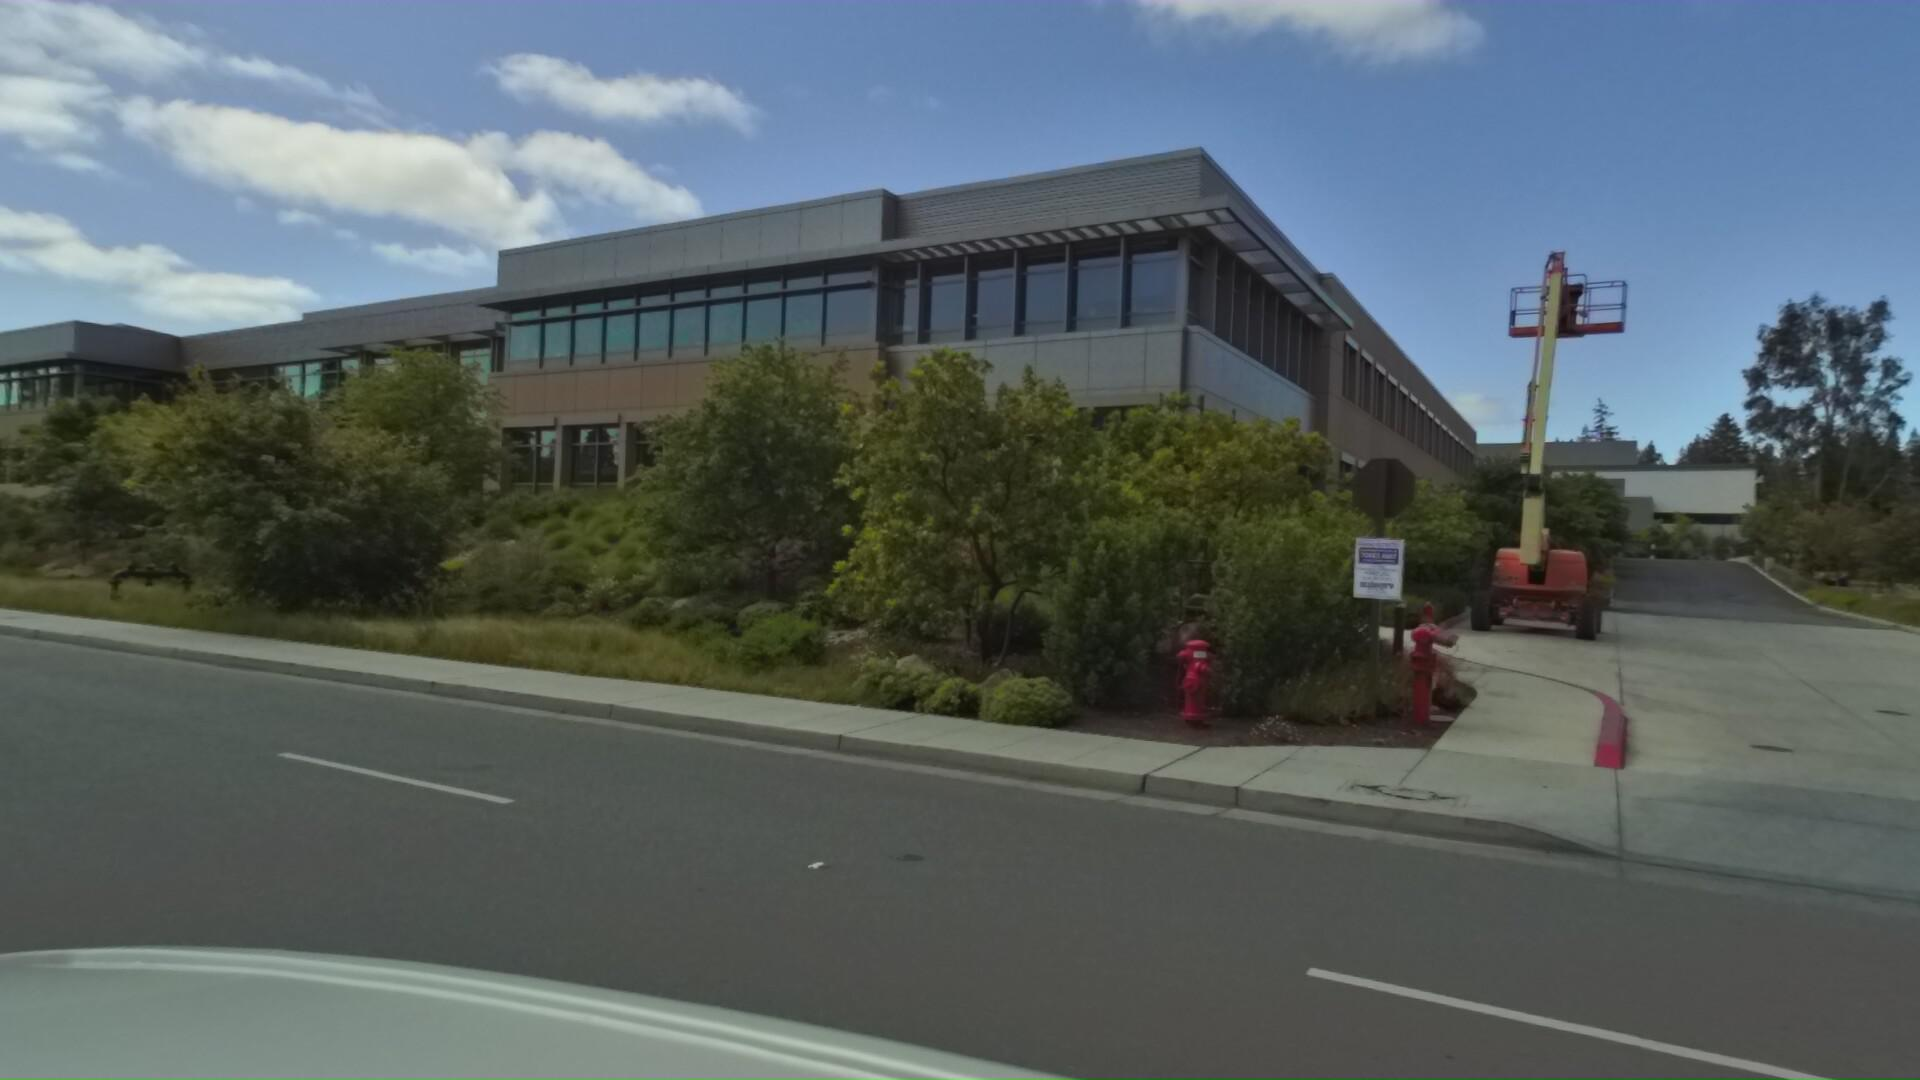other_vehicle: (1408, 200, 1619, 637)
